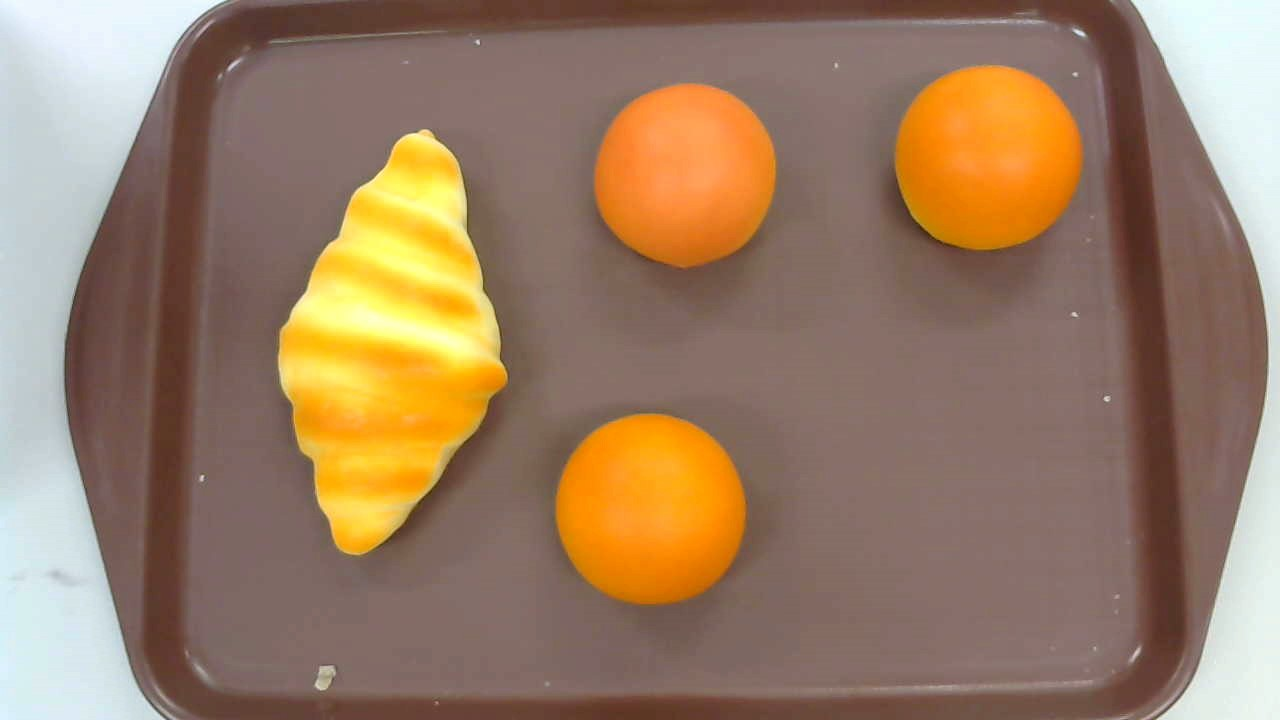bun: (555, 414, 746, 606), (895, 65, 1082, 251), (593, 83, 777, 271)
croissant: (278, 129, 507, 557)
